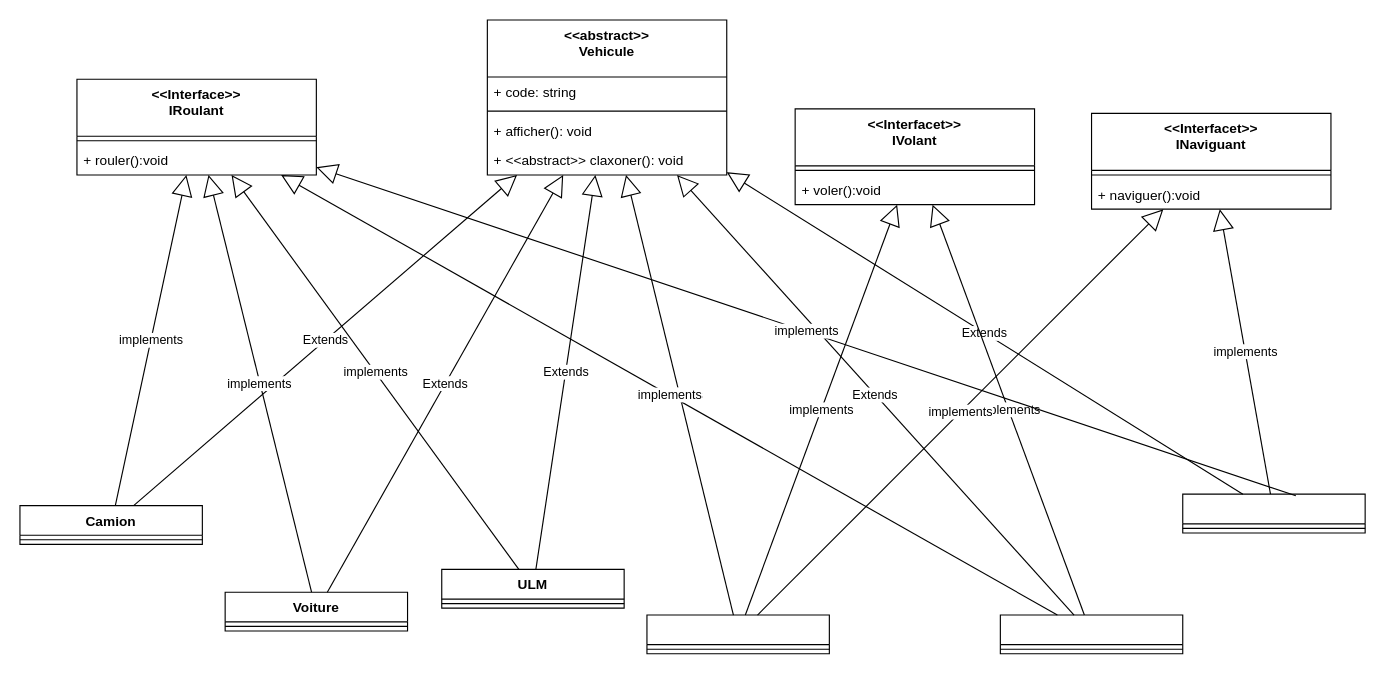
The diagram is 1385 pixels wide and 674 high, and some of its shapes have lost their labels. Here are the shapes that lost their labels. From the top down, the box of each, then its label:
(1182, 493, 1365, 533): Amphibie
(646, 614, 829, 654): Hovercraft
(999, 614, 1183, 654): Avion
